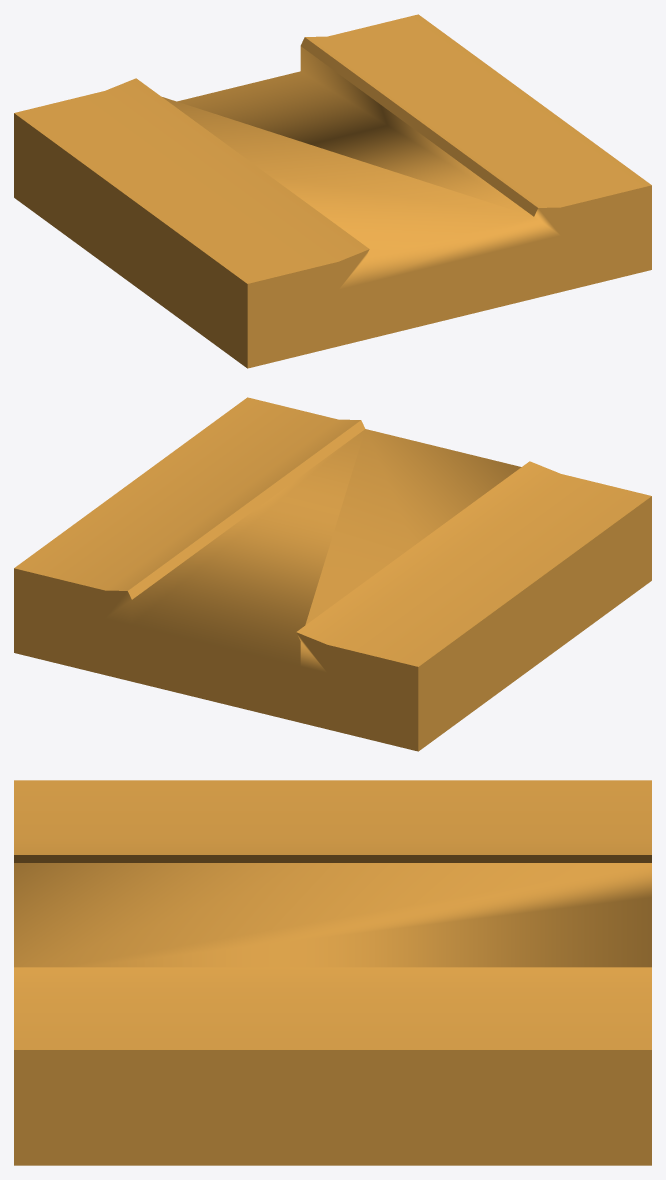
3 views of the same model, one above another, from view 1: azimuth 30°, elevation 25°; view 2: azimuth 150°, elevation 25°; view 3: azimuth 270°, elevation 25° (orthographic). The views are drawn at different scales.
Visible parts, largest first — view 1: tile-mainroad-straight; view 2: tile-mainroad-straight; view 3: tile-mainroad-straight.
Boxes of the visible parts, x1,y1,x2,y2 form: tile-mainroad-straight: (14, 14, 651, 368); tile-mainroad-straight: (14, 397, 651, 751); tile-mainroad-straight: (14, 780, 651, 1165).
Bounding box in the file's own units: 3000 × 635 × 3000.
